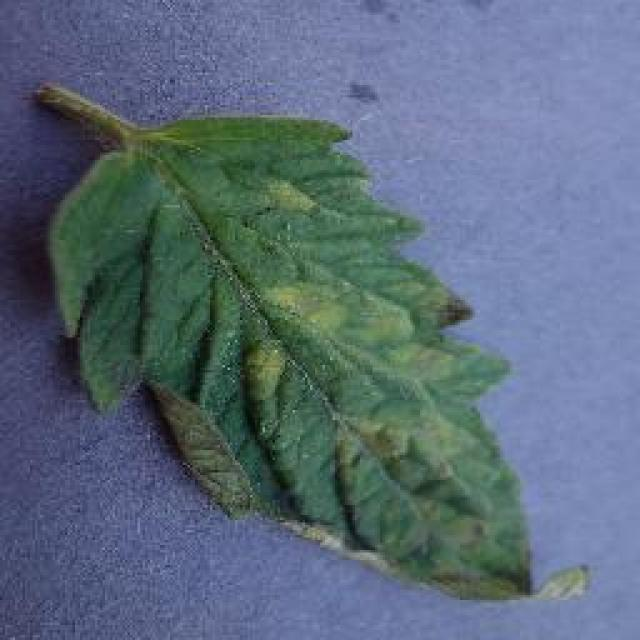leaf mold: (40, 76, 592, 605)
